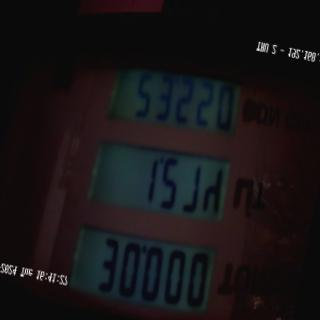screen: (61, 38, 261, 320)
